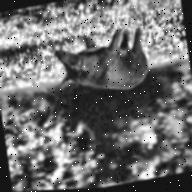boar: (43, 14, 174, 100)
